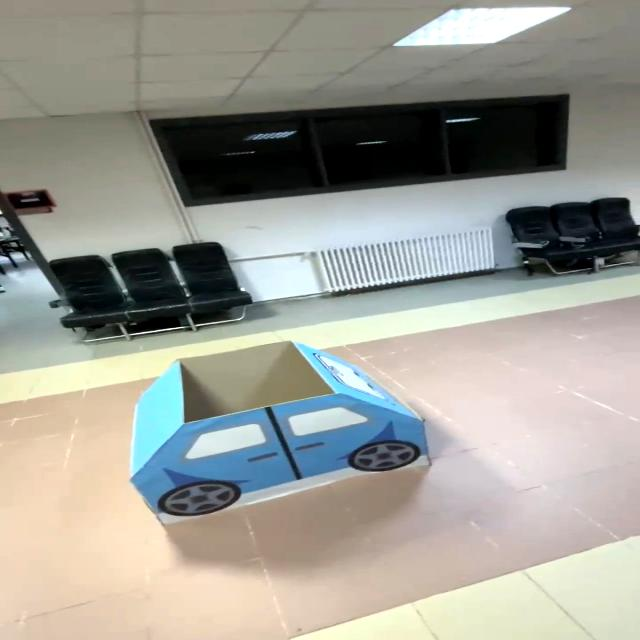blue_car: (94, 330, 454, 536)
